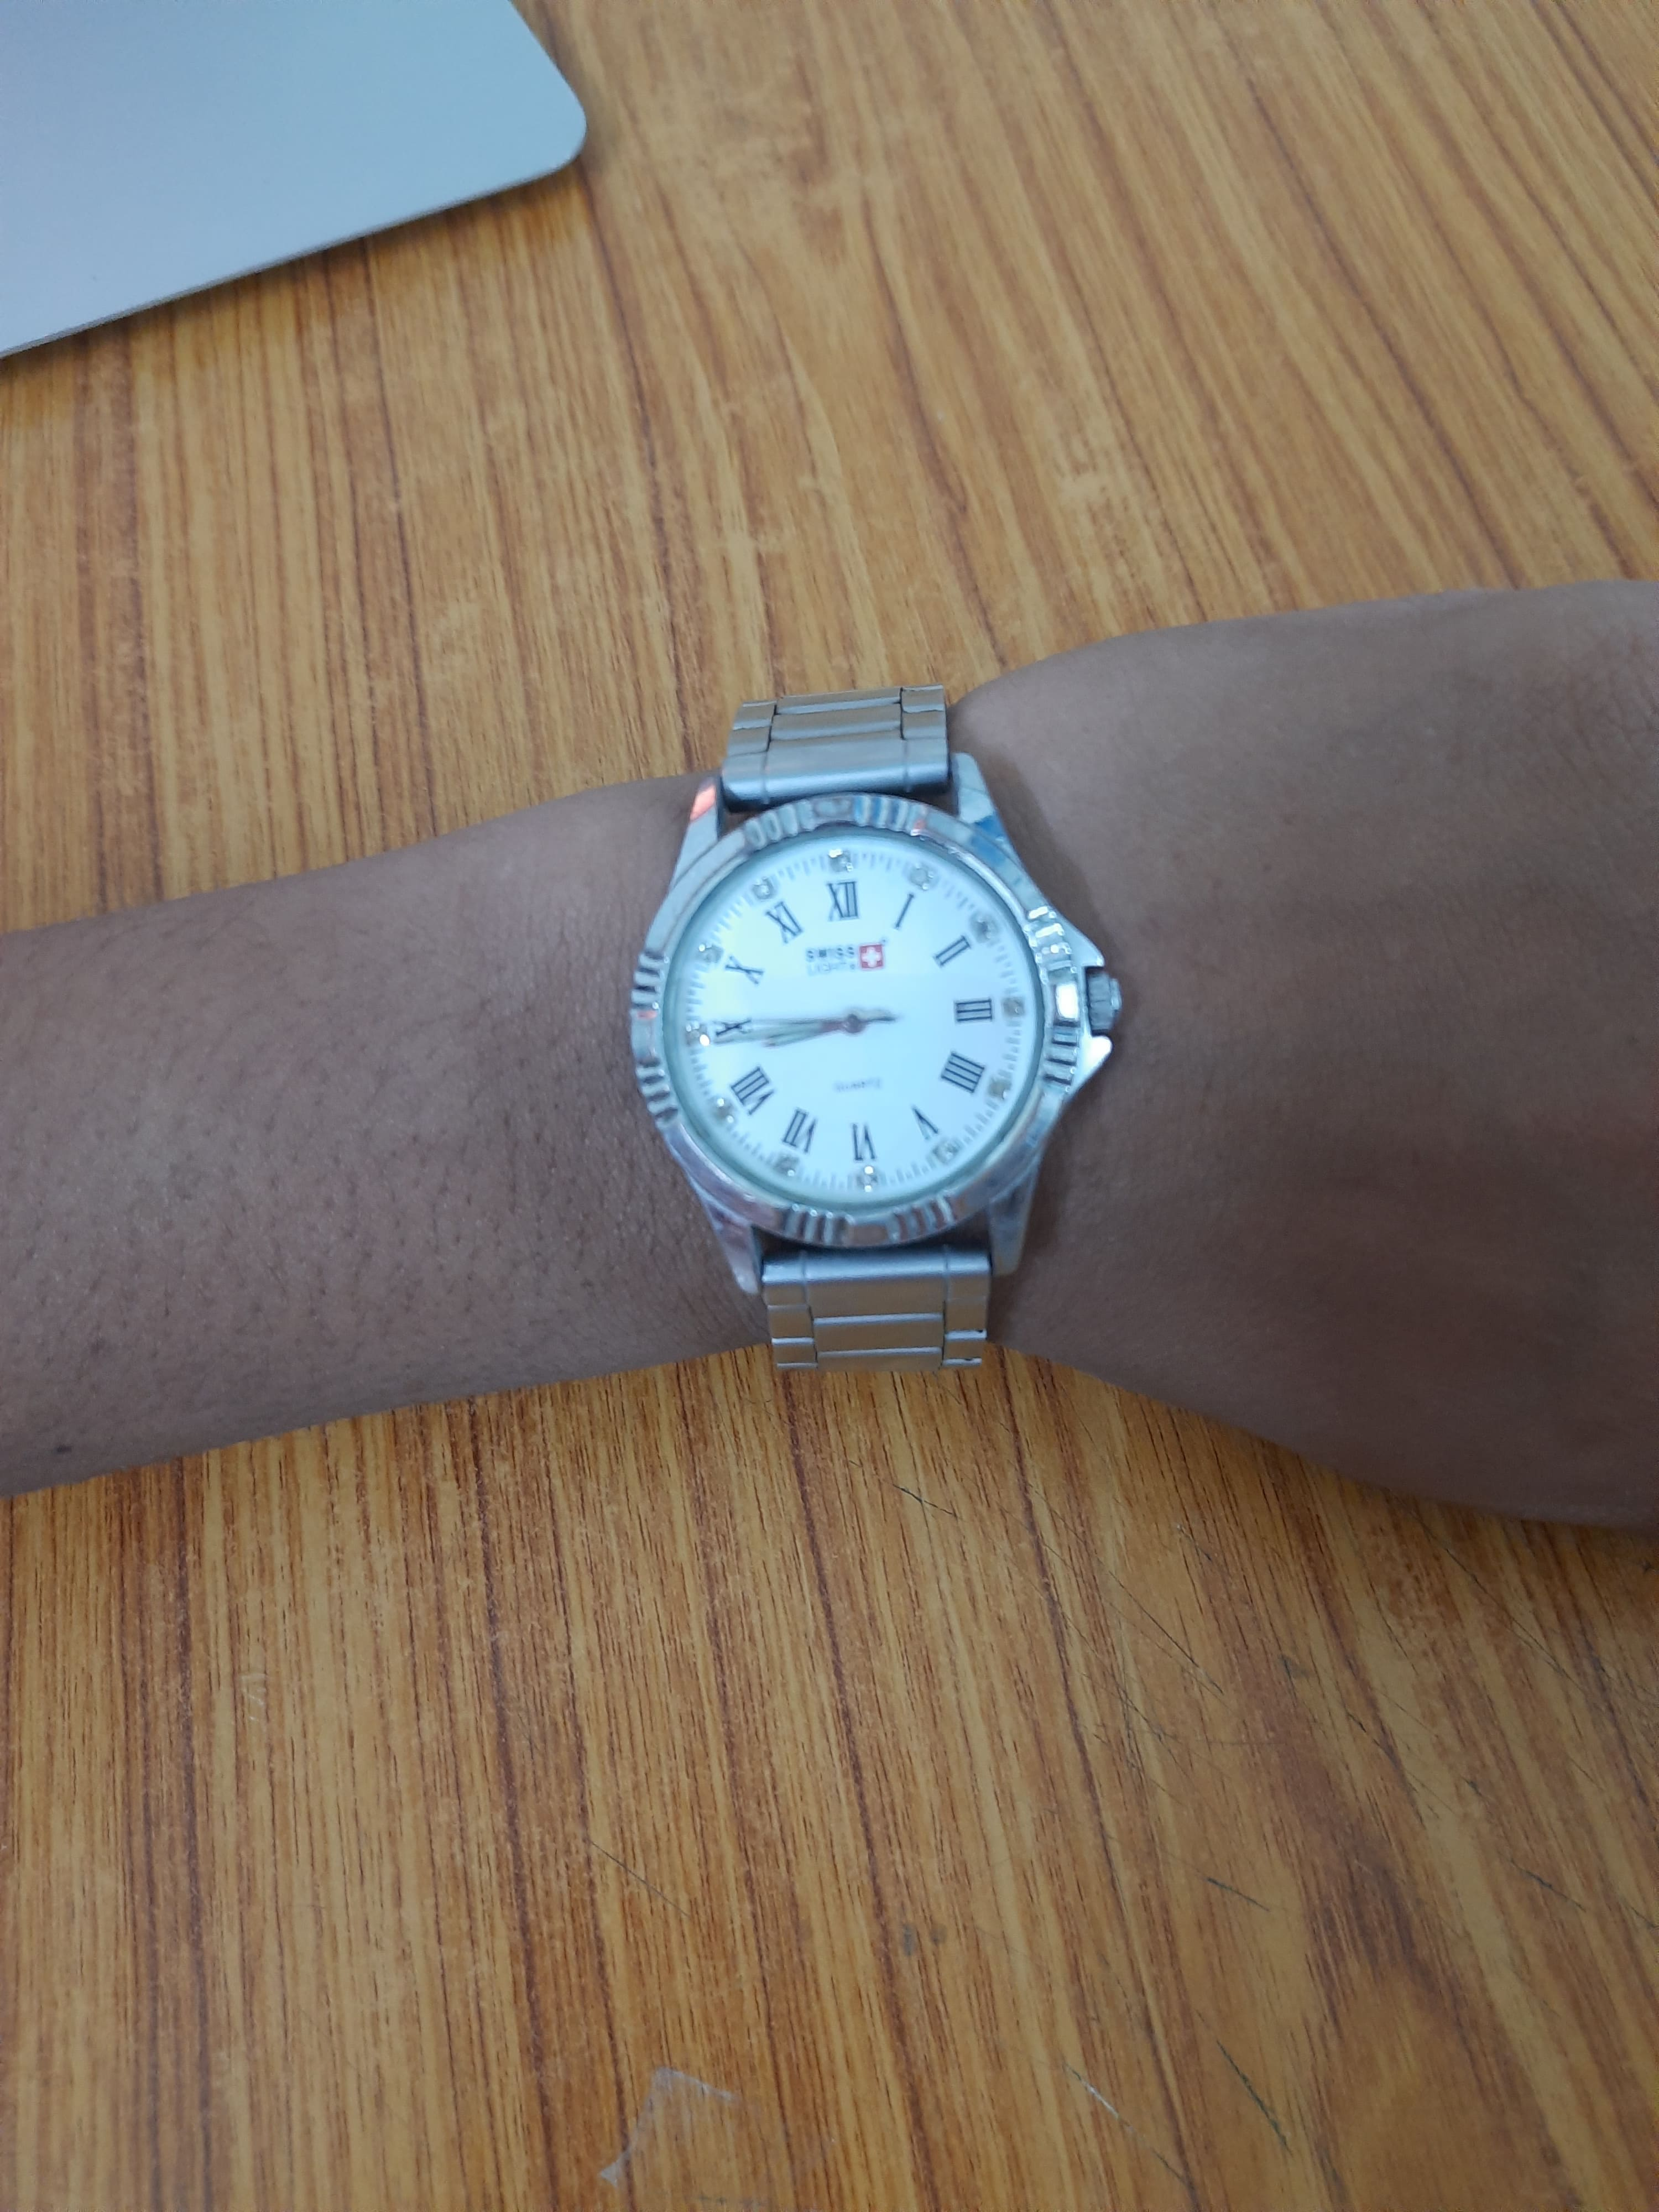Vikash's Watch: (640, 763, 1134, 1270)
